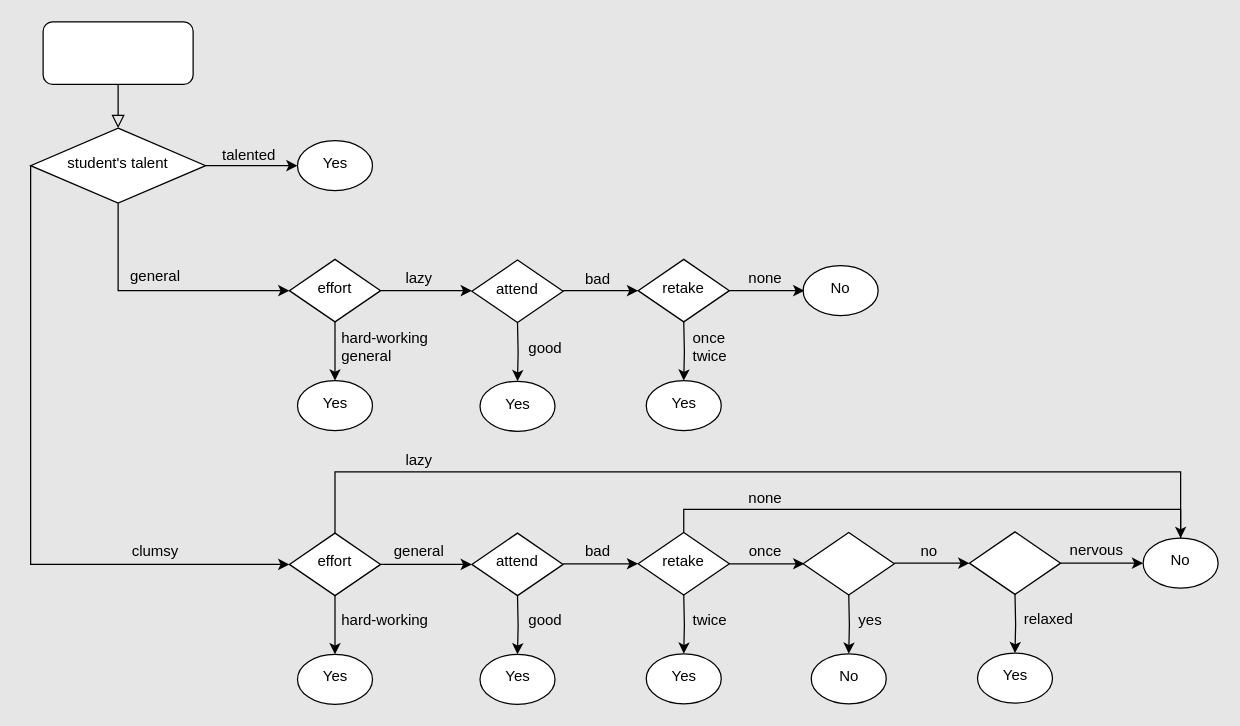
Image size: 1240x726. Some labels were removed from this diagram. Here are the shapes that lost their labels. From the top down, the centre of each, then its label:
point (117, 52): Will a student pass the course?
point (848, 563): club
point (1014, 562): state
